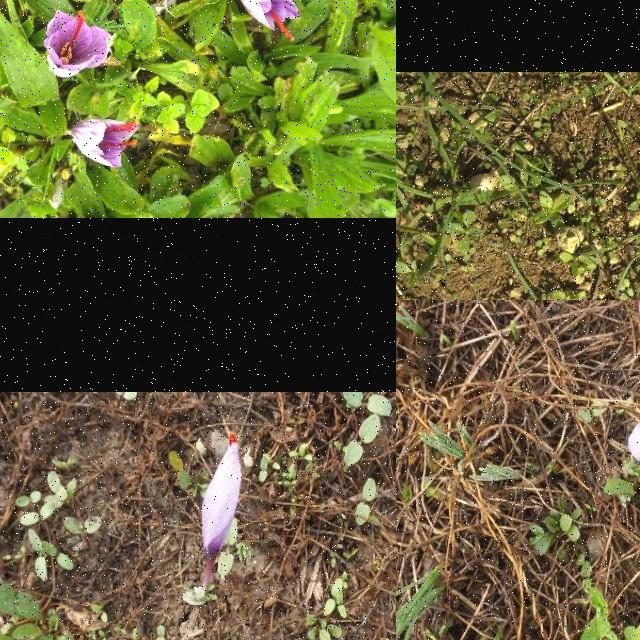flower: (202, 431, 242, 559), (44, 12, 114, 76), (72, 120, 140, 170), (239, 0, 302, 40), (628, 415, 640, 462)
